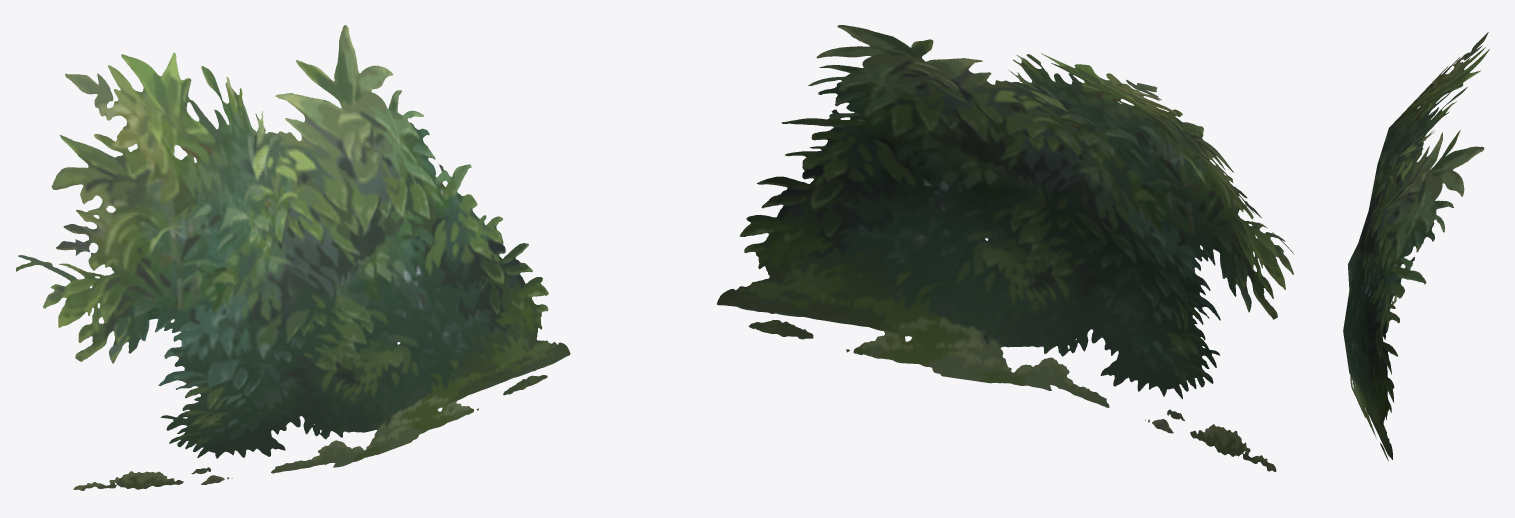
File: Jiubajie_Grass05_fb.FBX
The picture shows the model from 3 angles, left to right: view 1: azimuth 30°, elevation 25°; view 2: azimuth 150°, elevation 25°; view 3: azimuth 270°, elevation 25°; orthographic projection. The views are drawn at different scales.
Visible parts, largest first — view 1: Jiubajie_Grass05_fb; view 2: Jiubajie_Grass05_fb; view 3: Jiubajie_Grass05_fb.
Part boxes in pixels (<box>): Jiubajie_Grass05_fb: <box>16,25,570,490</box>; Jiubajie_Grass05_fb: <box>717,25,1294,471</box>; Jiubajie_Grass05_fb: <box>1343,32,1489,461</box>.
Size of the model in its own units: 1.87 by 1.17 by 0.5657.
